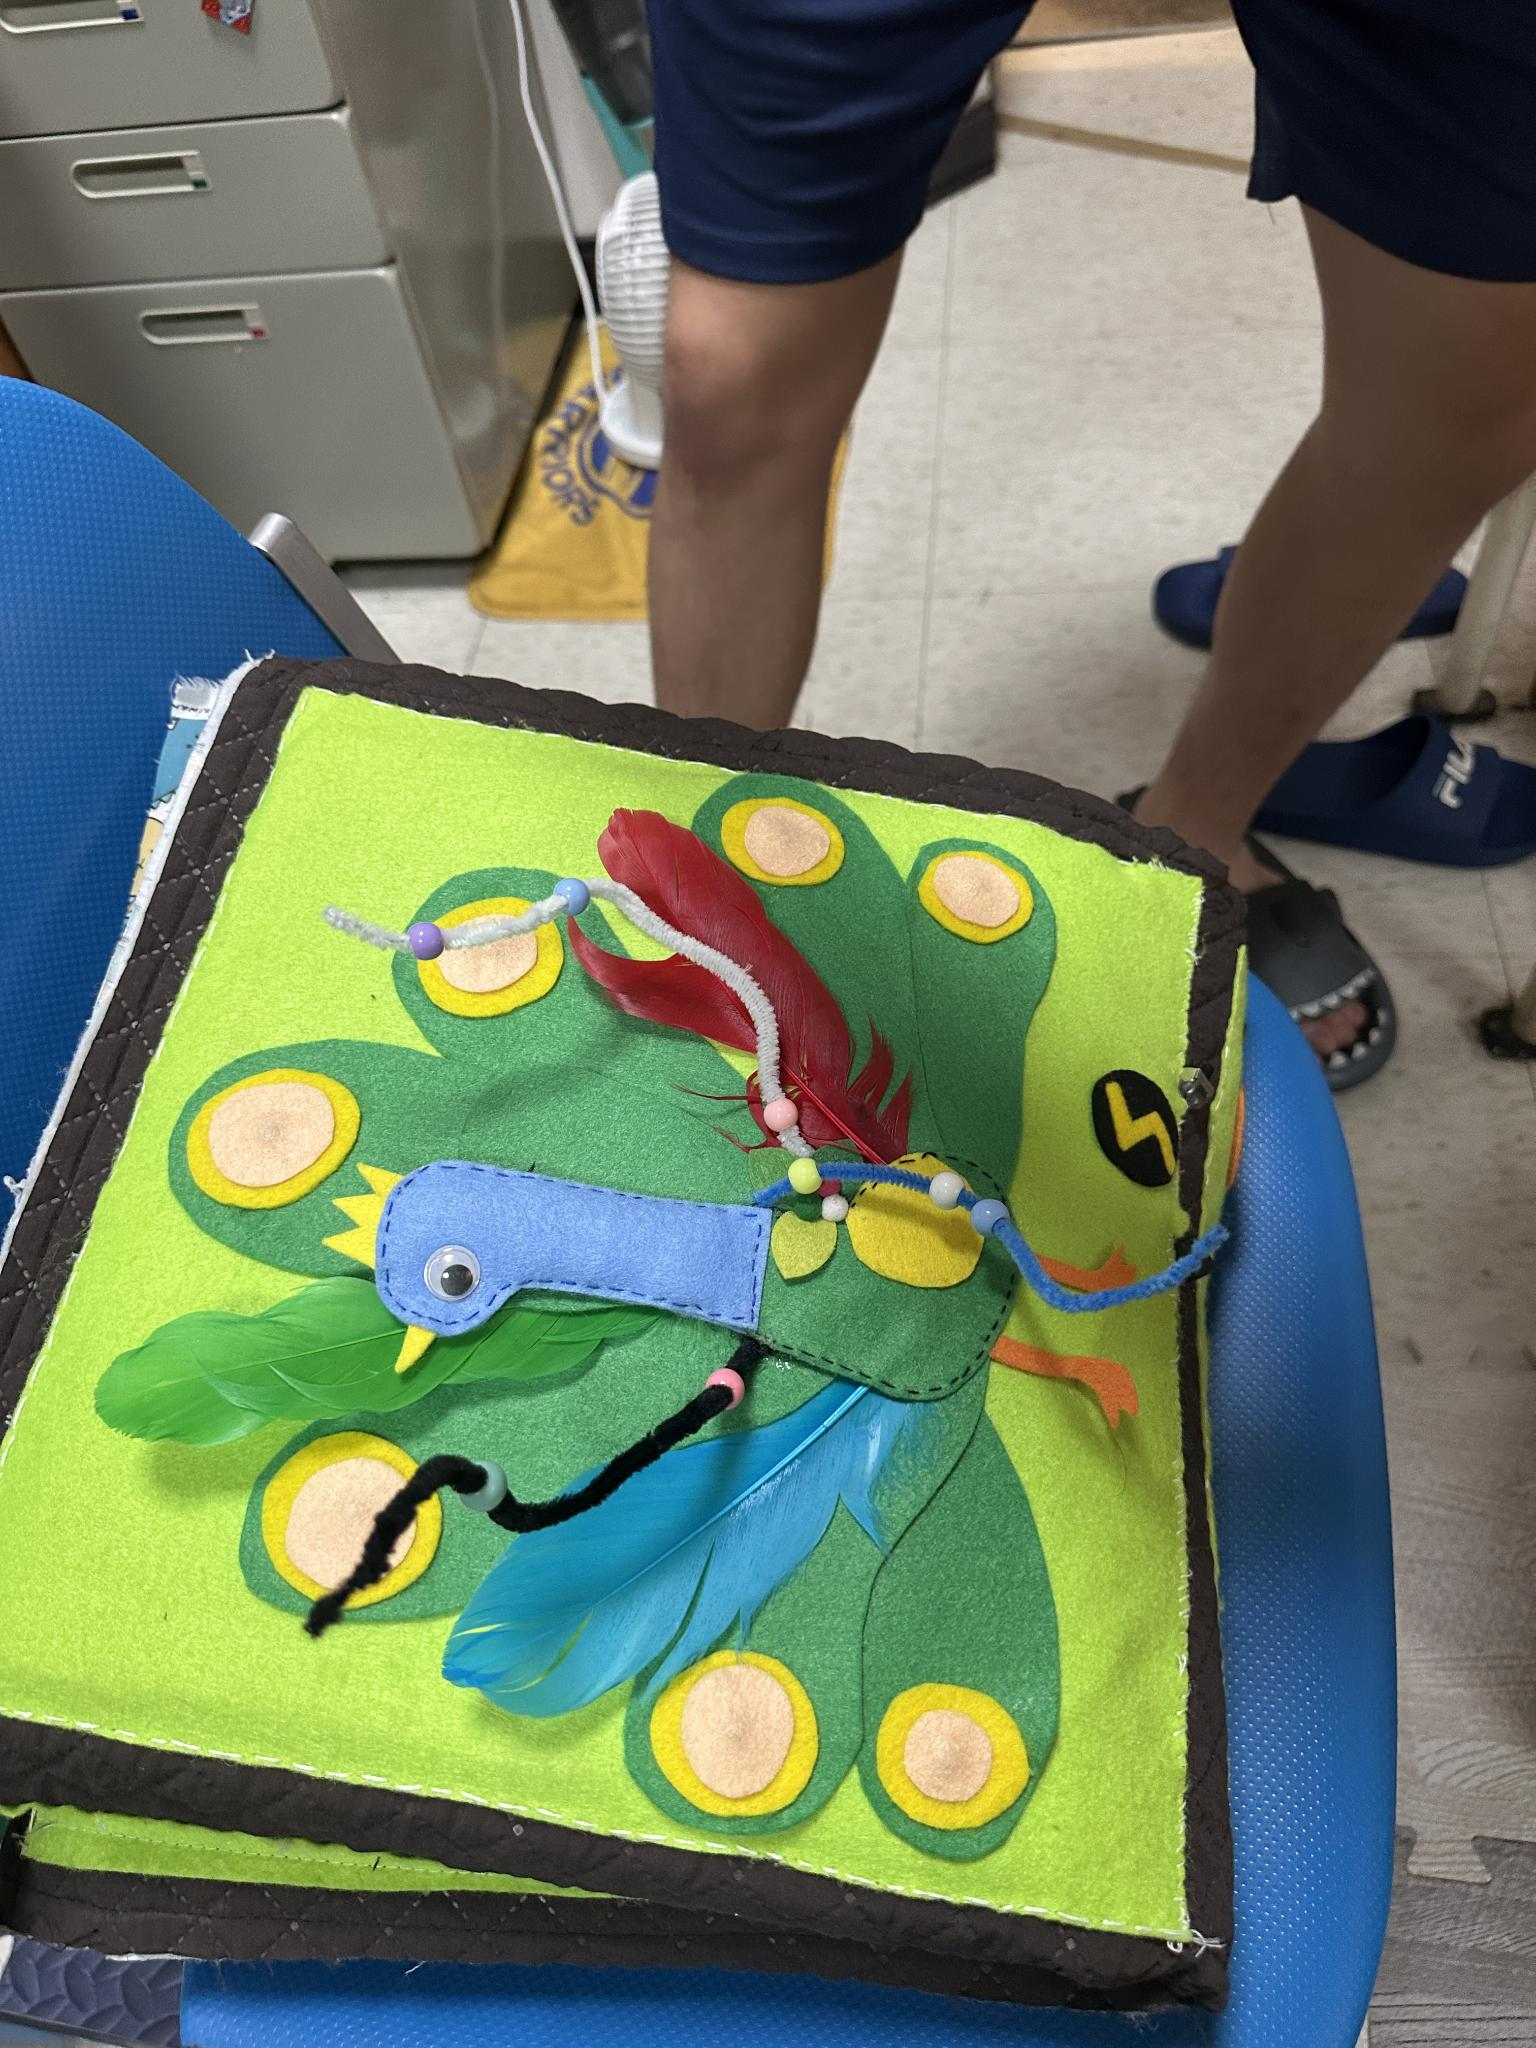bead: (952, 1187, 1041, 1245), (461, 1451, 516, 1516), (397, 908, 447, 966), (549, 876, 603, 922), (783, 1153, 837, 1198), (708, 1355, 752, 1409), (760, 1092, 813, 1135), (920, 1159, 962, 1214)
